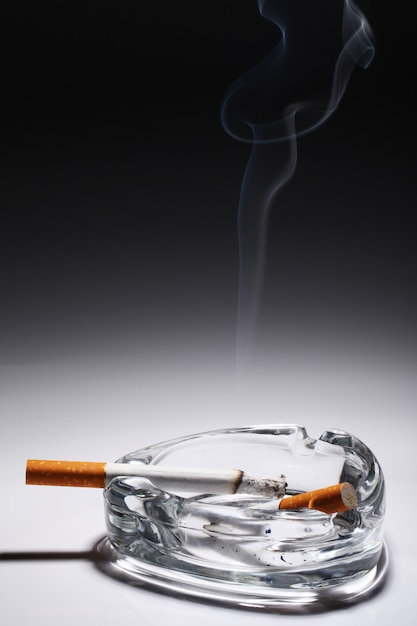cigarette: (25, 453, 285, 499), (251, 479, 359, 520)
